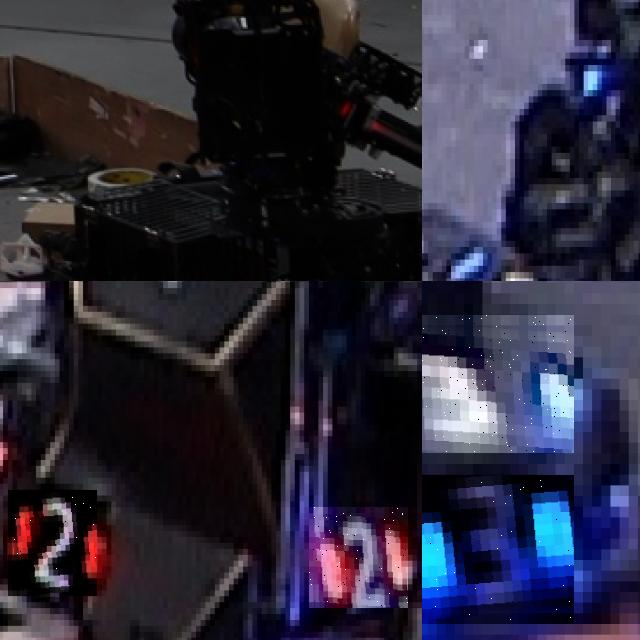B1: (446, 247, 560, 281)
B3: (422, 474, 573, 624), (422, 314, 573, 453)
R2: (309, 507, 408, 608), (8, 490, 97, 596)
